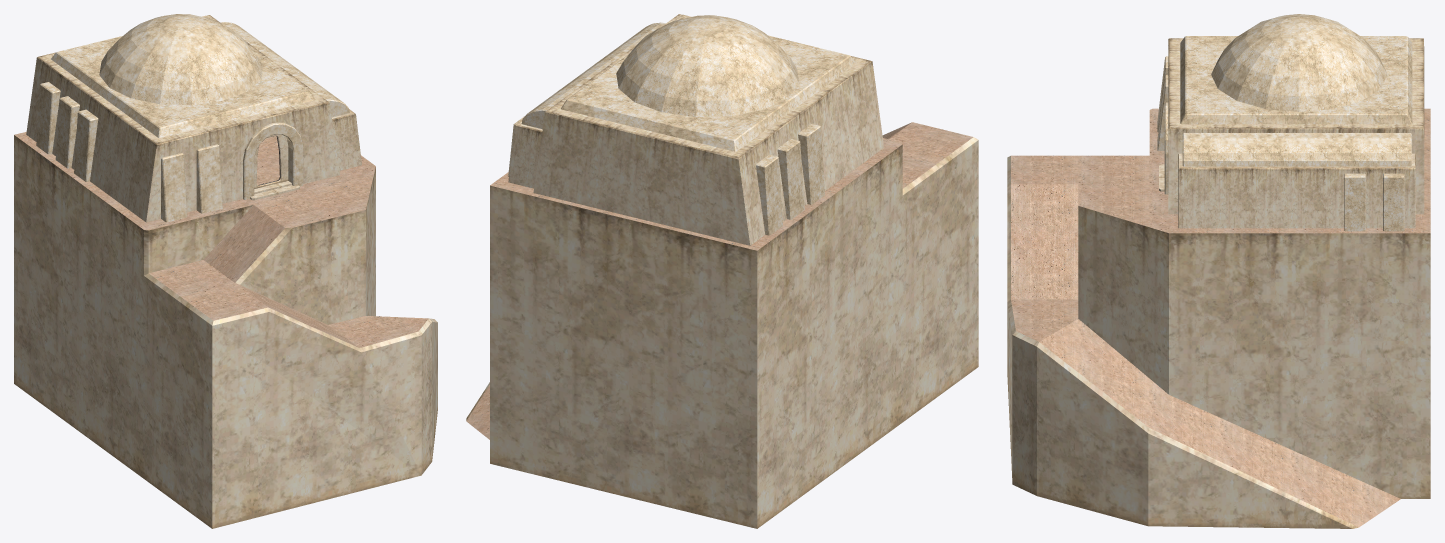
The model's file is ply_tato_house_sm_s01_fp1_r0_mesh_l0.fbx.
3 renders of one model, left to right at view 1: azimuth 30°, elevation 25°; view 2: azimuth 150°, elevation 25°; view 3: azimuth 270°, elevation 25°, orthographic. The views are drawn at different scales.
Parts seen in each view (by area): view 1: mesh_node; view 2: mesh_node; view 3: mesh_node.
Boxes of the visible parts, x1,y1,x2,y2 form: mesh_node: (14, 14, 437, 528); mesh_node: (466, 14, 978, 528); mesh_node: (1007, 14, 1430, 528).
Bounding box in the file's own units: 20.59 × 25.23 × 23.82.
